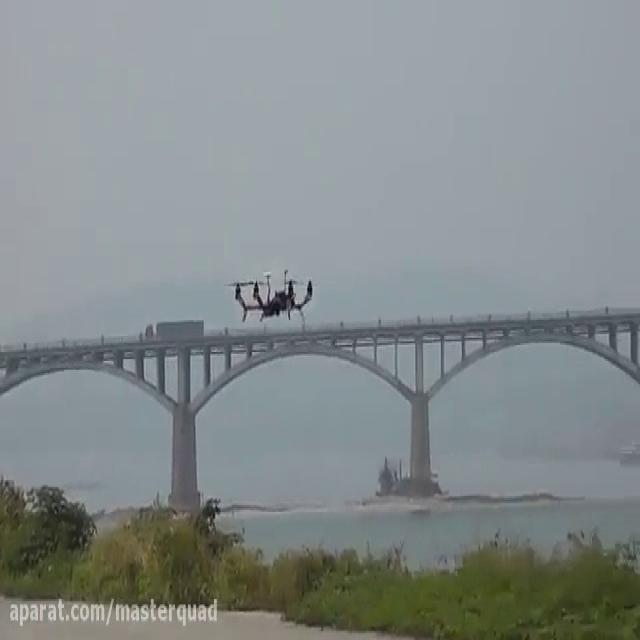drone: (222, 265, 322, 329)
